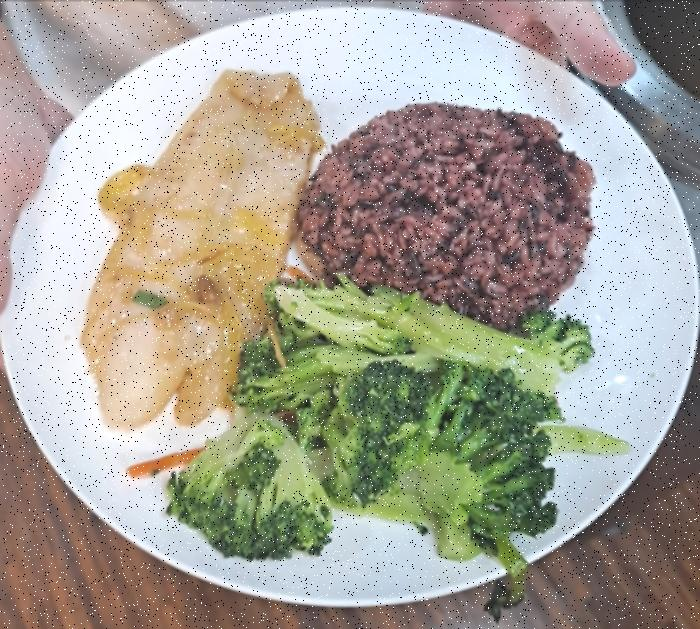big fried chicken leg: (4, 0, 700, 614)
braised fish: (292, 103, 602, 324)
braised fish fillet: (174, 277, 594, 567)
braised pork ribs: (79, 60, 319, 434)
